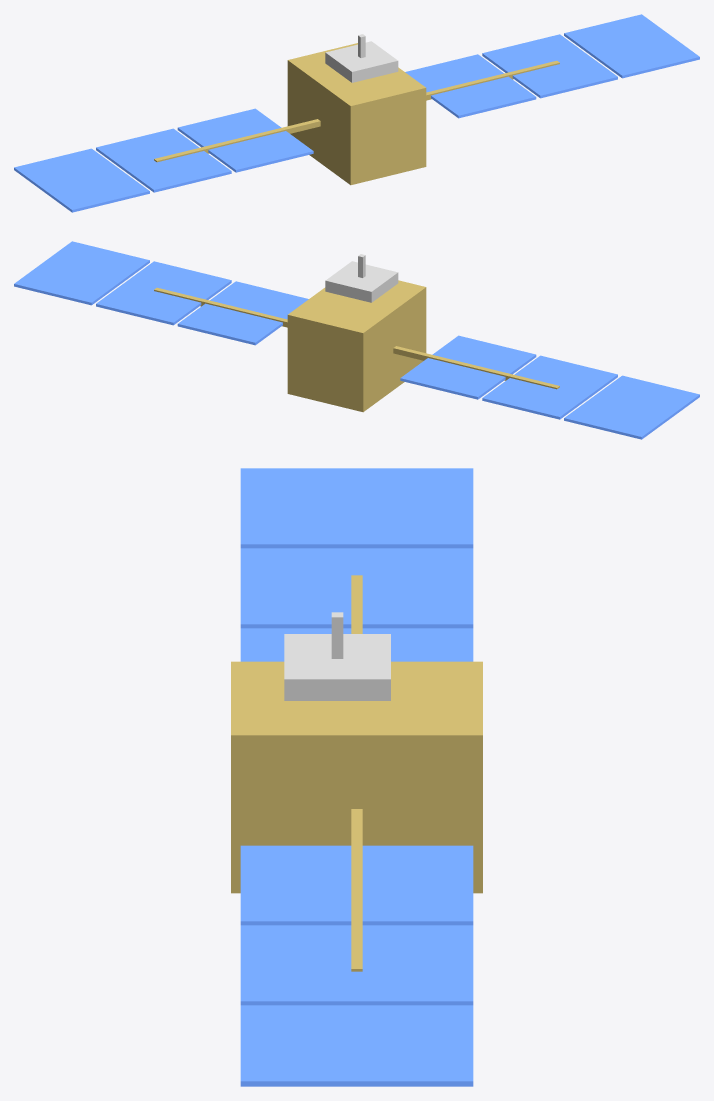
Rendered from satellite.glb.
3 renders of one model, top to bottom at view 1: azimuth 30°, elevation 25°; view 2: azimuth 150°, elevation 25°; view 3: azimuth 270°, elevation 25°, orthographic. The views are drawn at different scales.
Visible parts, largest first — view 1: satellite; view 2: satellite; view 3: satellite.
Boxes of the visible parts, x1=… form: satellite: x1=14, y1=14, x2=699, y2=212; satellite: x1=14, y1=241, x2=699, y2=439; satellite: x1=231, y1=468, x2=482, y2=1086.
Bounding box in the file's own units: 14.95 × 2.75 × 2.6.
